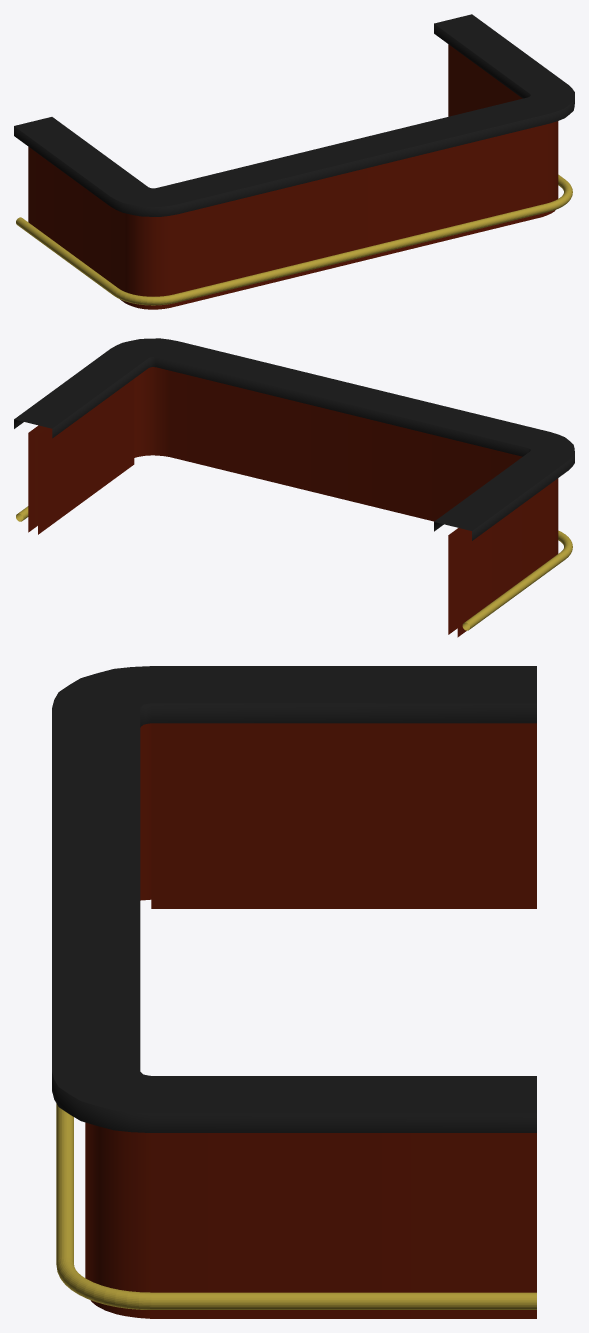
File: Bar_Bar.fbx
The picture shows the model from 3 angles, top to bottom: view 1: azimuth 30°, elevation 25°; view 2: azimuth 150°, elevation 25°; view 3: azimuth 270°, elevation 25°; orthographic projection. The views are drawn at different scales.
Visible parts, largest first — view 1: Cube; view 2: Cube; view 3: Cube.
Part boxes in pixels (x1=…): Cube: x1=14, y1=14, x2=574, y2=309; Cube: x1=14, y1=338, x2=574, y2=637; Cube: x1=52, y1=666, x2=536, y2=1318.
Size of the model in its own units: 480 by 110 by 220.
